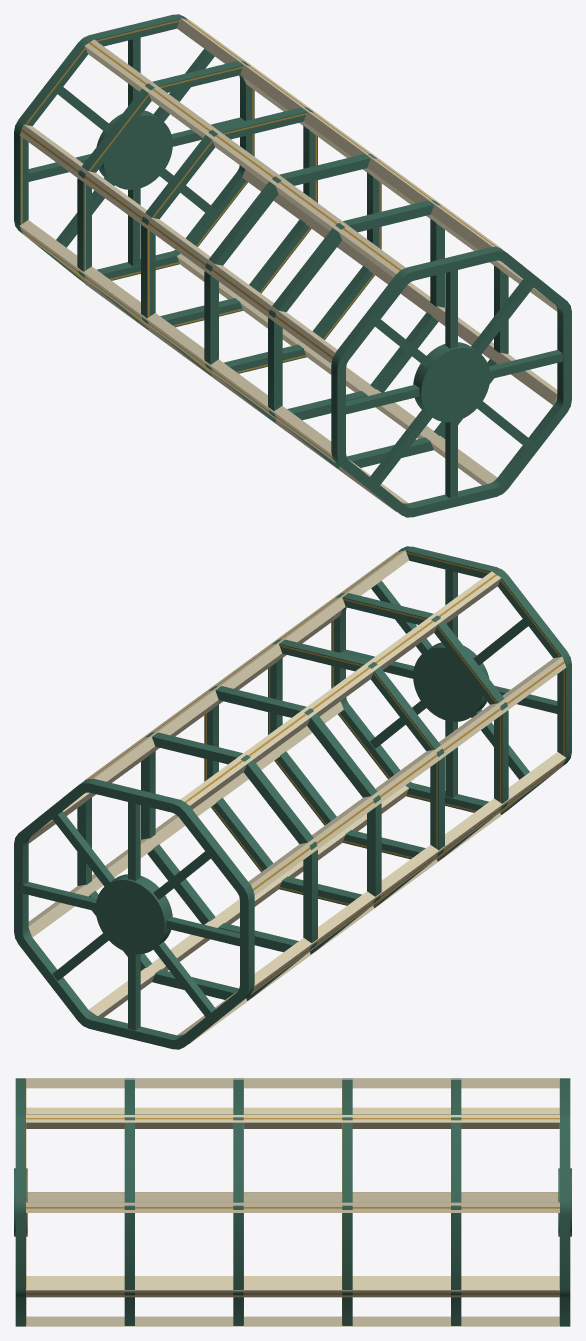
The model's file is tank4200_frame.obj.
3 views of the same model, one above another, from view 1: azimuth 30°, elevation 25°; view 2: azimuth 150°, elevation 25°; view 3: azimuth 270°, elevation 25° (orthographic). The views are drawn at different scales.
Visible parts, largest first — view 1: tank4200_frame; view 2: tank4200_frame; view 3: tank4200_frame.
Boxes of the visible parts, left/top/right/bottom form: tank4200_frame: left=14, top=14, right=571, bottom=517; tank4200_frame: left=14, top=546, right=571, bottom=1049; tank4200_frame: left=14, top=1078, right=571, bottom=1326.
Bounding box in the file's own units: 13.59 × 13.59 × 32.55.
